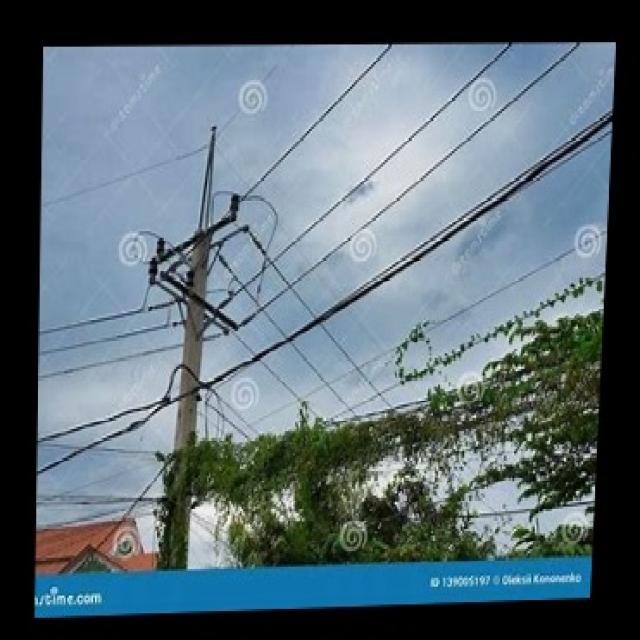critical vegetation: (180, 390, 592, 510)
